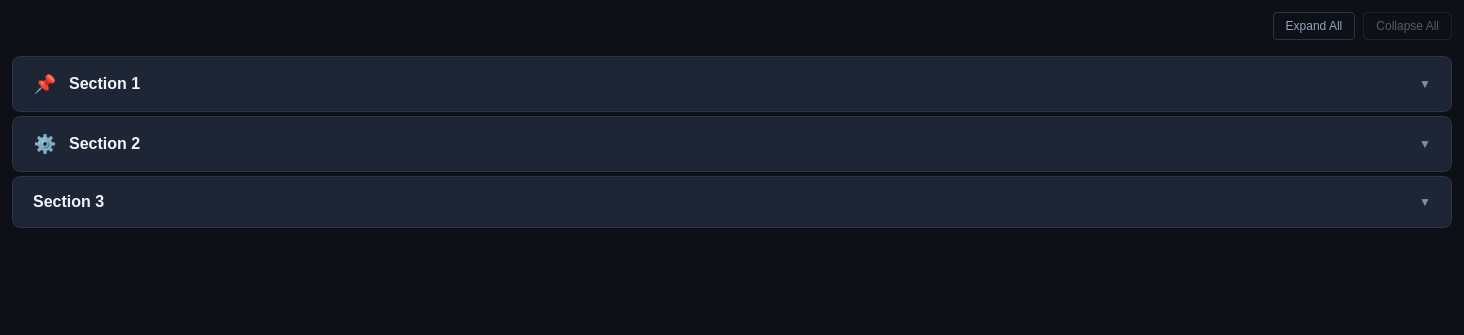
Test: SettingsAccordion › expand/collapse behavior › allows multiple sections when allowMultiple is true
Click the button "📌 Section 1 ▼" at point(105, 84), box [13, 57, 1451, 111]
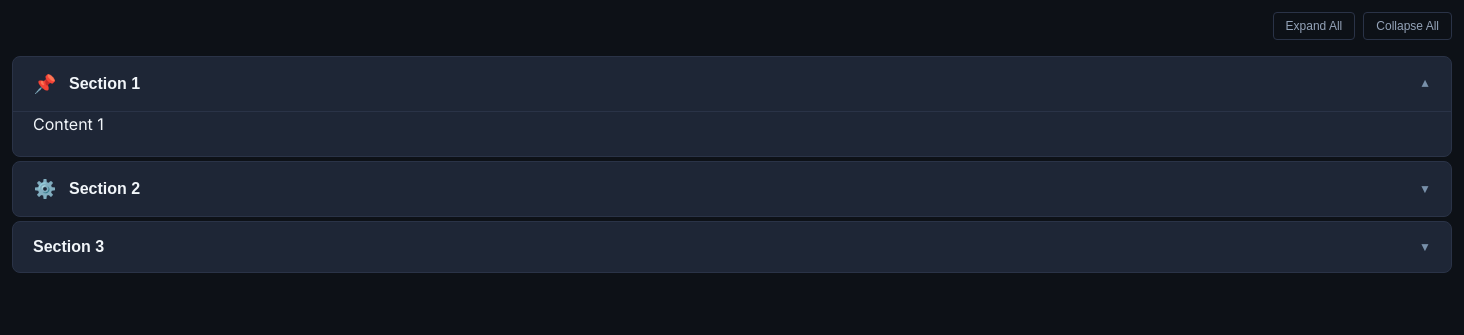
Click the button "⚙️ Section 2 ▼" at point(105, 188), box [13, 162, 1451, 216]
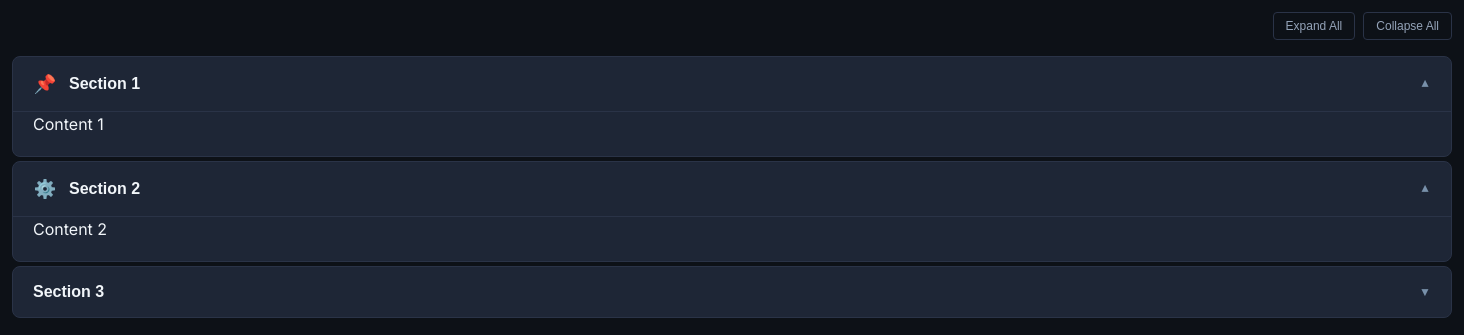
Expected: the text "Content 1" is shown, [33, 114, 104, 134]
Expected: the text "Content 2" is shown, [33, 219, 107, 239]
